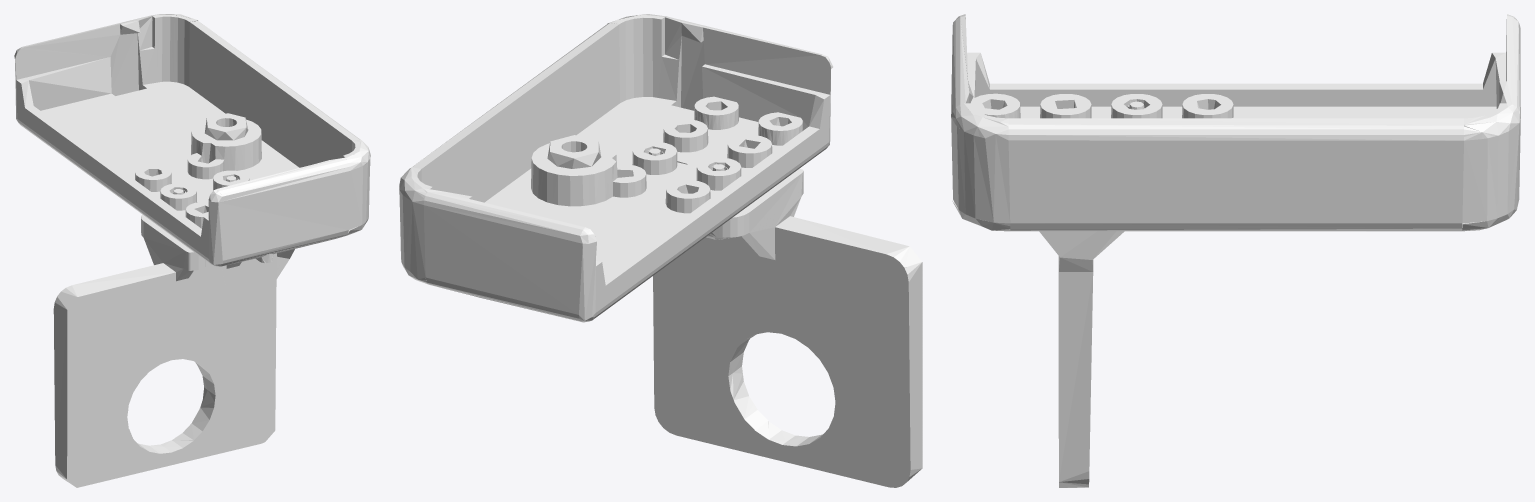
The model's file is scara_id5_r.dae.
3 renders of one model, left to right at view 1: azimuth 30°, elevation 25°; view 2: azimuth 150°, elevation 25°; view 3: azimuth 270°, elevation 25°, orthographic. The views are drawn at different scales.
Visible parts, largest first — view 1: ID5_R; view 2: ID5_R; view 3: ID5_R.
Part boxes in pixels (<box>): ID5_R: <box>14,14,370,487</box>; ID5_R: <box>399,14,922,487</box>; ID5_R: <box>951,14,1520,487</box>.
Size of the model in its own units: 0.0321 by 0.0401 by 0.0325.
1 material, 1 textured.
